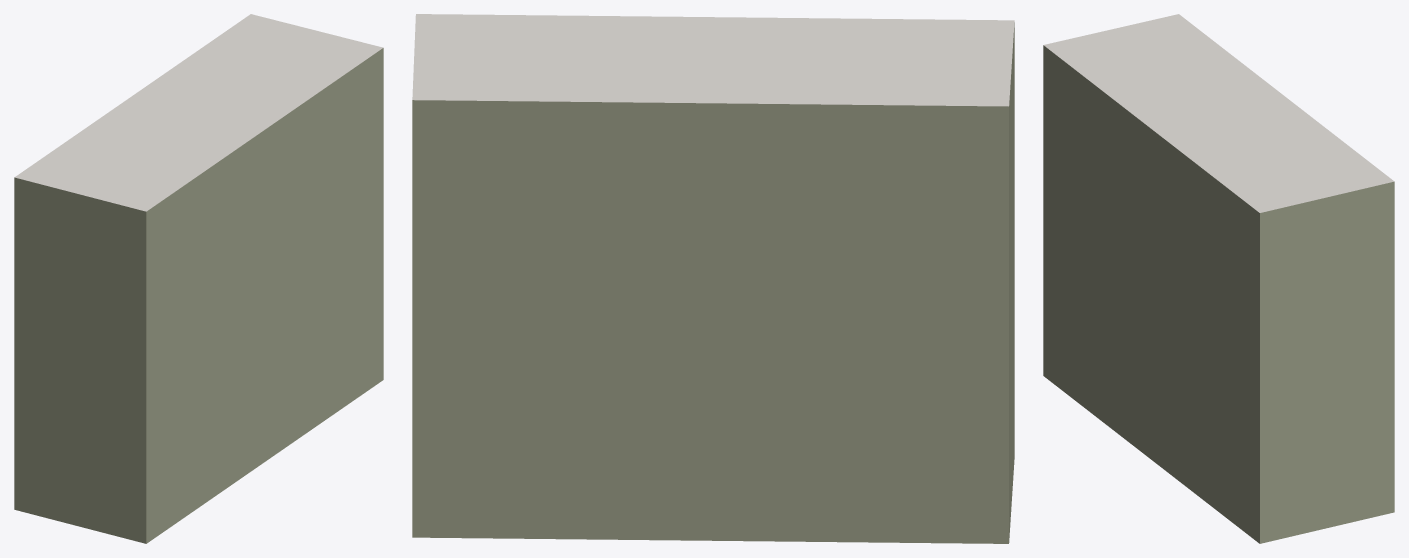
The model's file is nyc-1015271-0.glb.
3 views of the same model, side by side, from view 1: azimuth 30°, elevation 25°; view 2: azimuth 150°, elevation 25°; view 3: azimuth 270°, elevation 25° (orthographic). The views are drawn at different scales.
Visible parts, largest first — view 1: nyc-1015271-0; view 2: nyc-1015271-0; view 3: nyc-1015271-0.
Part boxes in pixels (x1=…): nyc-1015271-0: x1=14, y1=14, x2=383, y2=543; nyc-1015271-0: x1=412, y1=14, x2=1014, y2=543; nyc-1015271-0: x1=1043, y1=14, x2=1394, y2=543.
Bounding box in the file's own units: 18.28 × 14.16 × 13.63.
